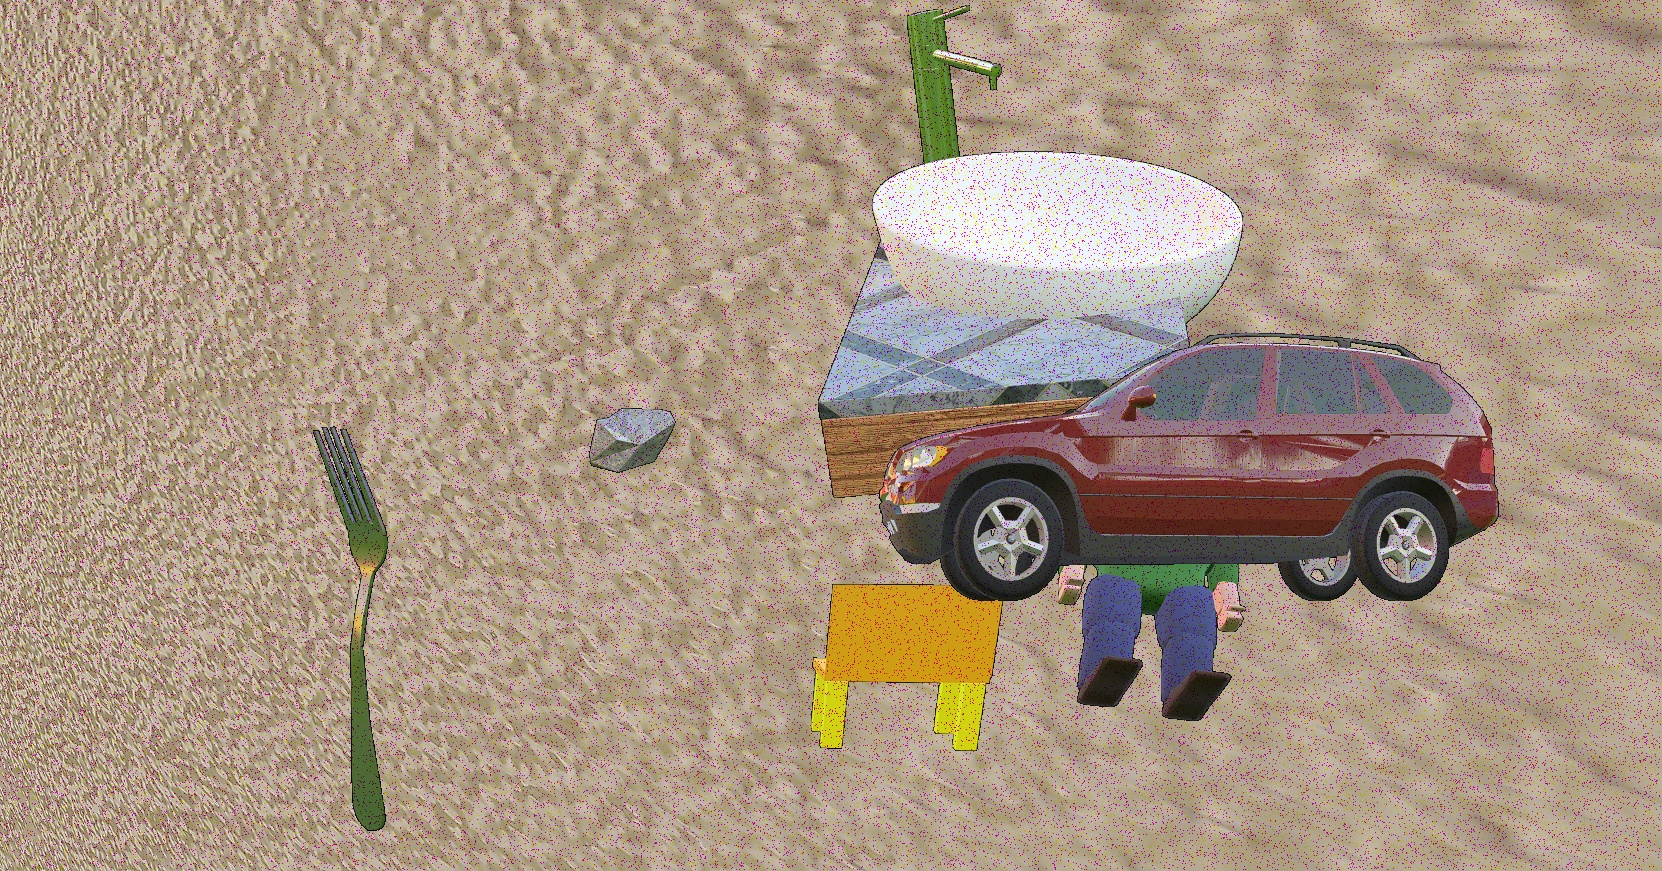coche: (879, 332, 1499, 602)
fregadero: (817, 4, 1244, 499)
persona: (1057, 512, 1247, 721)
piedra: (589, 408, 676, 473)
silla: (810, 584, 1006, 751)
tenedor: (312, 426, 389, 831)
